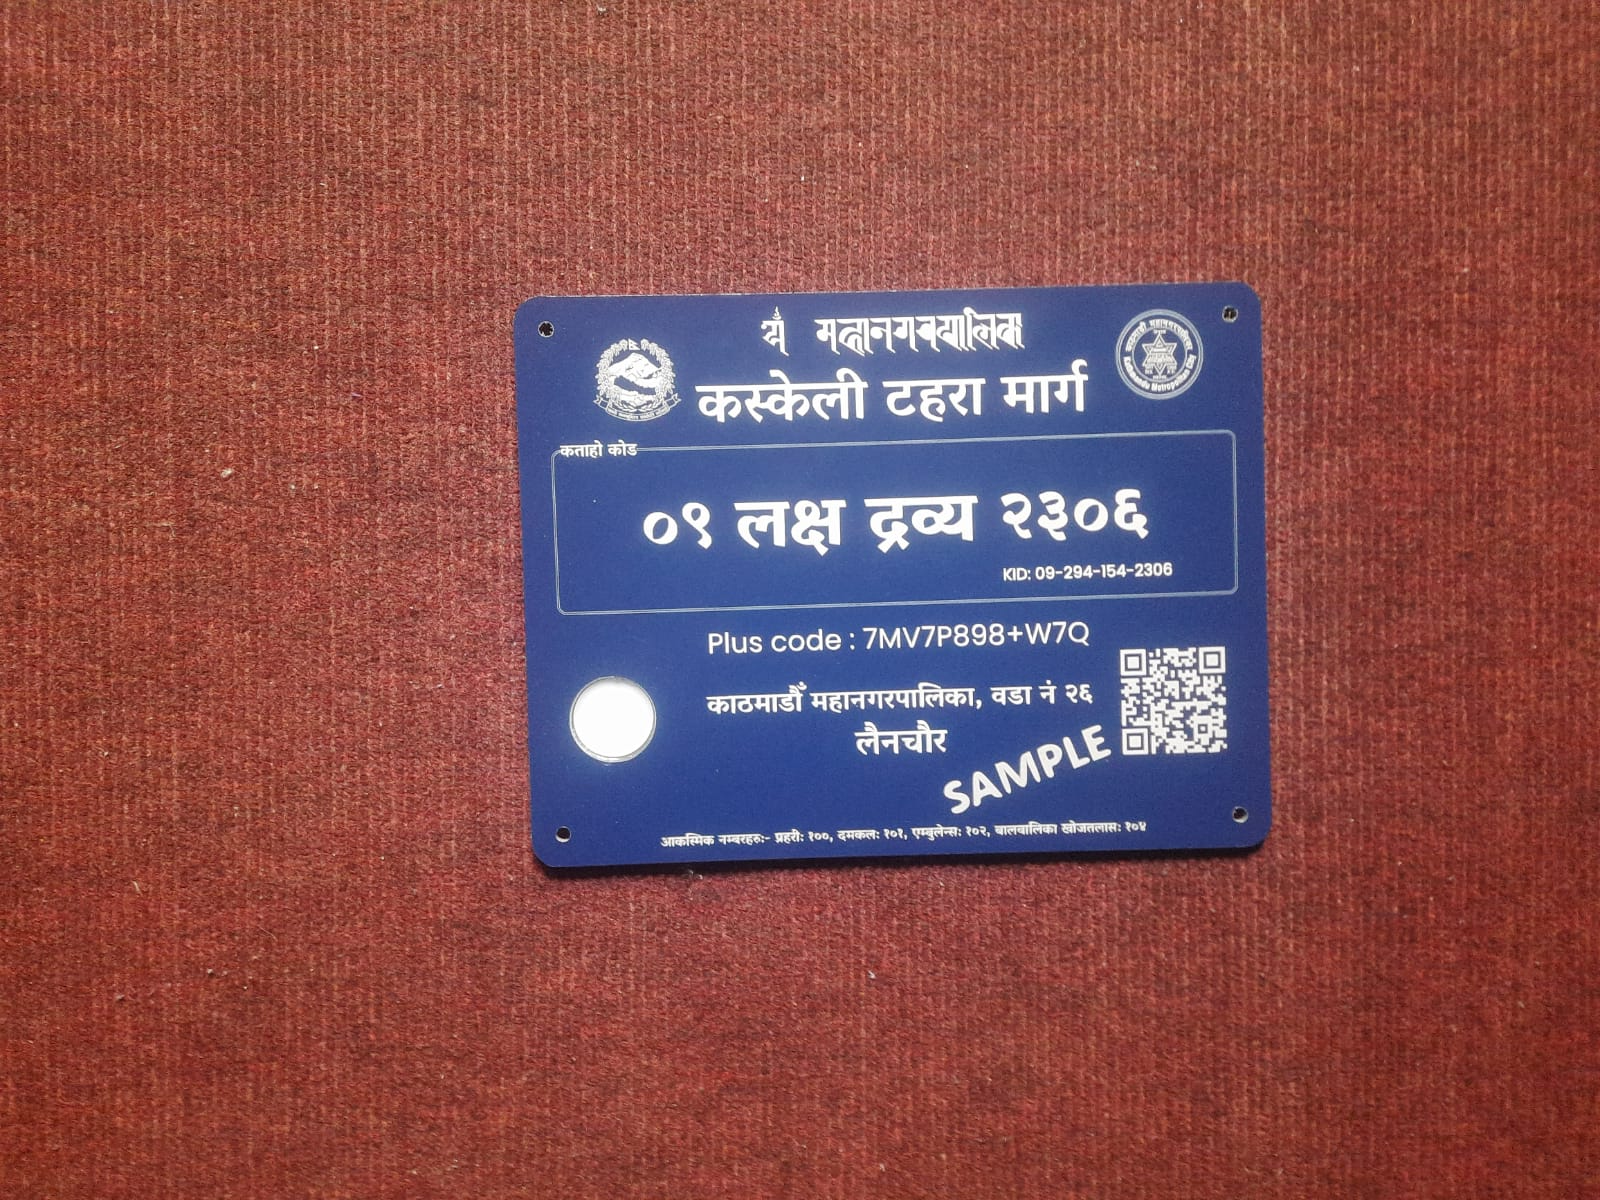Plate: (509, 278, 1277, 865)
